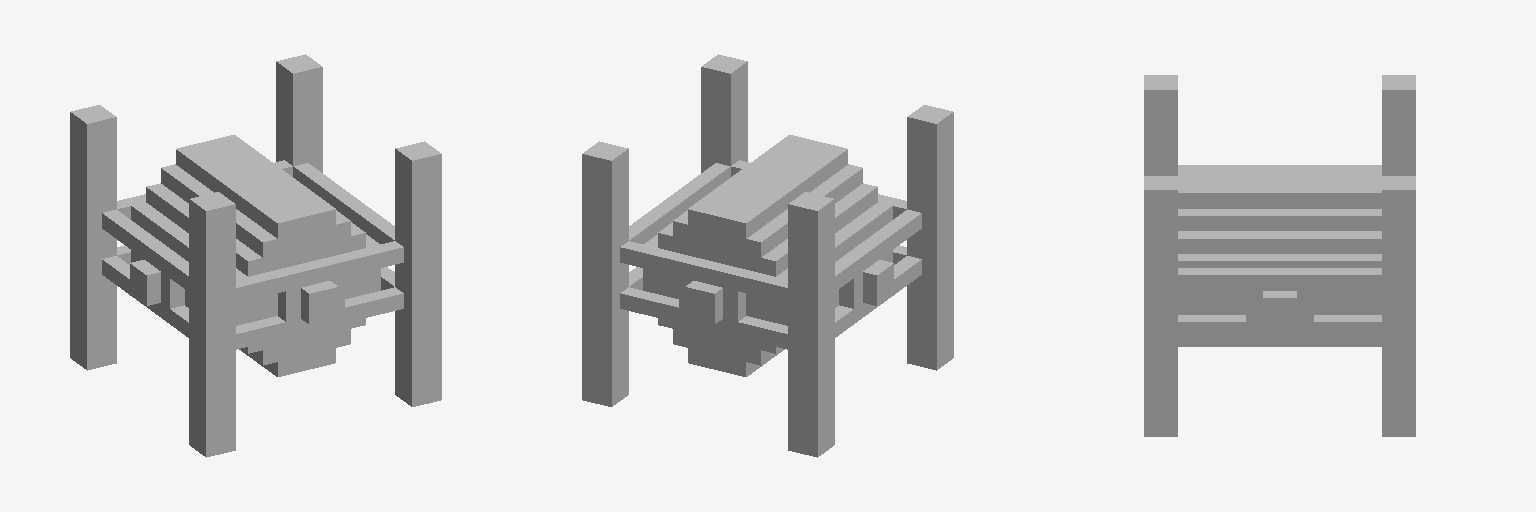
File: power_generators_shaft_ee_medium.obj
3 renders of one model, left to right at view 1: azimuth 30°, elevation 25°; view 2: azimuth 150°, elevation 25°; view 3: azimuth 270°, elevation 25°, orthographic.
Parts seen in each view (by area): view 1: node_0_0_0.002; view 2: node_0_0_0.002; view 3: node_0_0_0.002.
Boxes of the visible parts, <box> form: node_0_0_0.002: <box>70,54,441,457</box>; node_0_0_0.002: <box>582,54,953,457</box>; node_0_0_0.002: <box>1144,75,1415,436</box>.
Bounding box in the file's own units: 1 × 1 × 1.